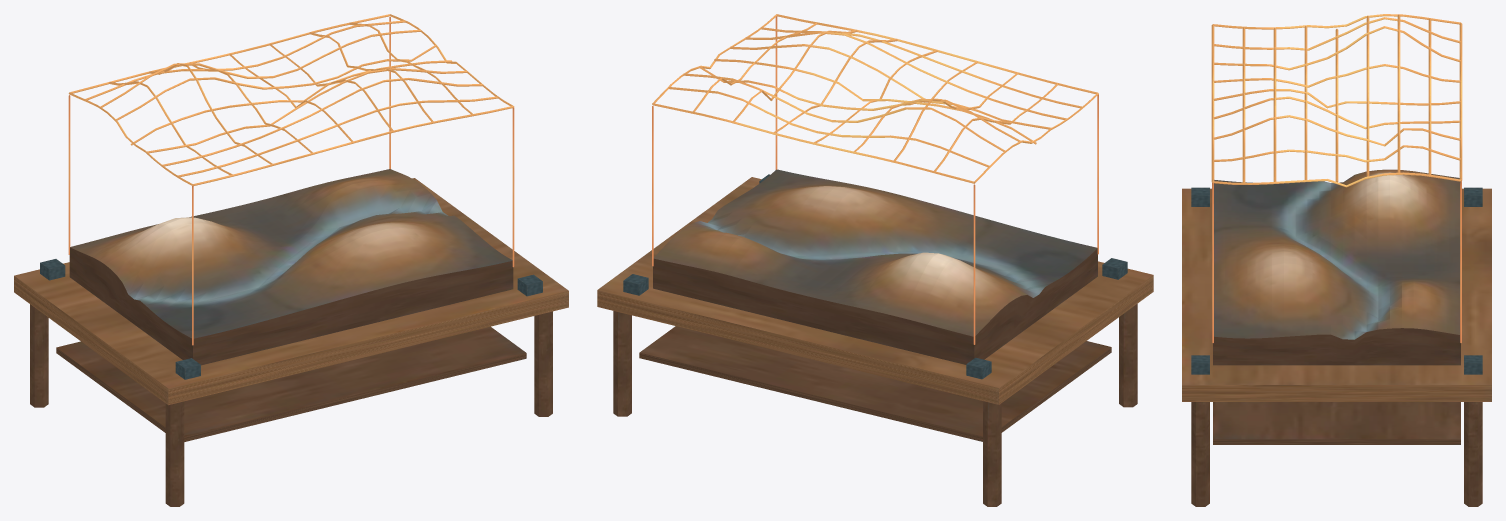
File: prop-4-twin-lab.glb
3 views of the same model, side by side, from view 1: azimuth 30°, elevation 25°; view 2: azimuth 150°, elevation 25°; view 3: azimuth 270°, elevation 25° (orthographic).
Visible parts, largest first — view 1: geometry_0; view 2: geometry_0; view 3: geometry_0.
Part boxes in pixels (bbox=[...]): geometry_0: bbox=[14, 14, 568, 506]; geometry_0: bbox=[597, 14, 1153, 506]; geometry_0: bbox=[1182, 14, 1491, 506].
Size of the model in its own units: 1.5 by 1.24 by 1.
Materials: 1 (1 with a texture image).
